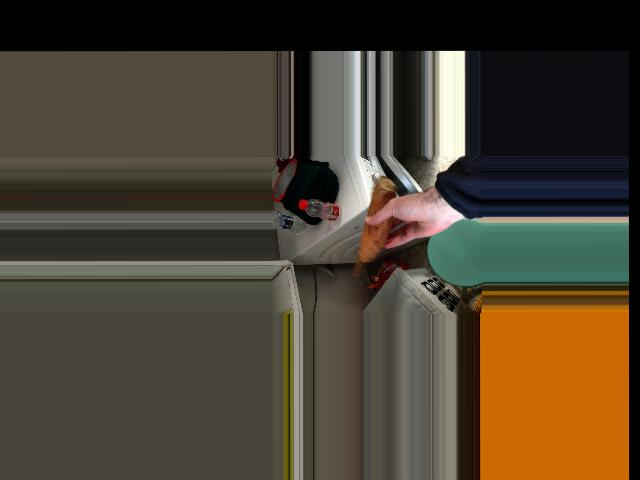sweet_potato: (349, 182, 400, 273)
